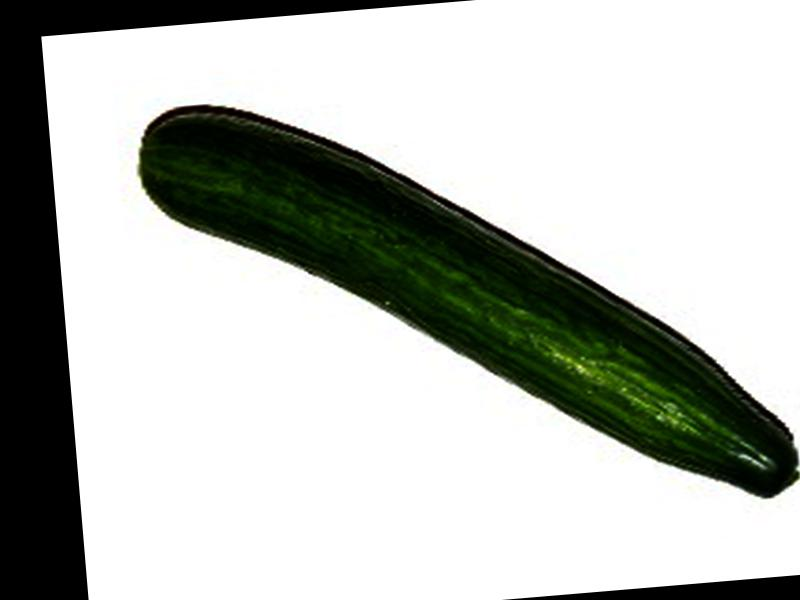Cucumber: (135, 60, 800, 547)
